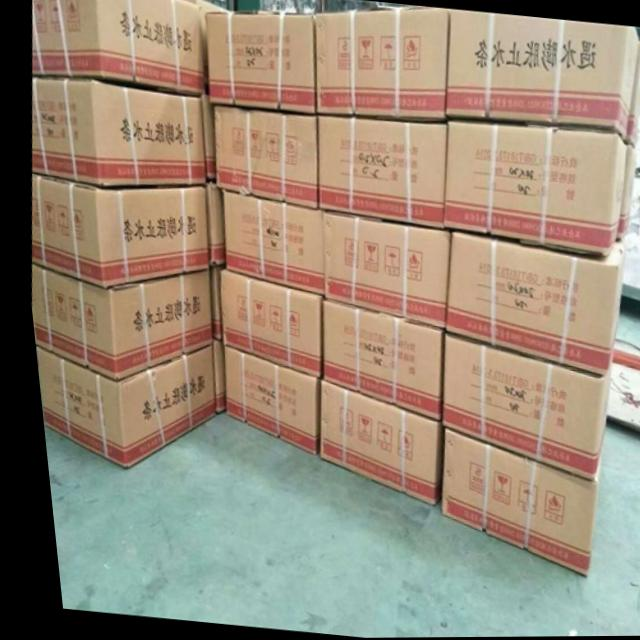box: (437, 231, 618, 379), (442, 9, 640, 144), (438, 117, 623, 258), (431, 331, 604, 481), (429, 426, 588, 577), (29, 344, 206, 468), (25, 262, 205, 379), (26, 172, 203, 287), (29, 75, 201, 187), (308, 377, 431, 507), (31, 0, 201, 94), (317, 209, 445, 331), (314, 6, 447, 123), (313, 299, 437, 422), (312, 113, 442, 229), (207, 103, 314, 209), (203, 12, 315, 113), (213, 269, 317, 377), (217, 189, 318, 296), (216, 345, 313, 456), (185, 0, 231, 94), (610, 144, 633, 242), (623, 41, 640, 148), (200, 177, 219, 266), (203, 265, 219, 345), (197, 94, 212, 179), (205, 337, 216, 413)
